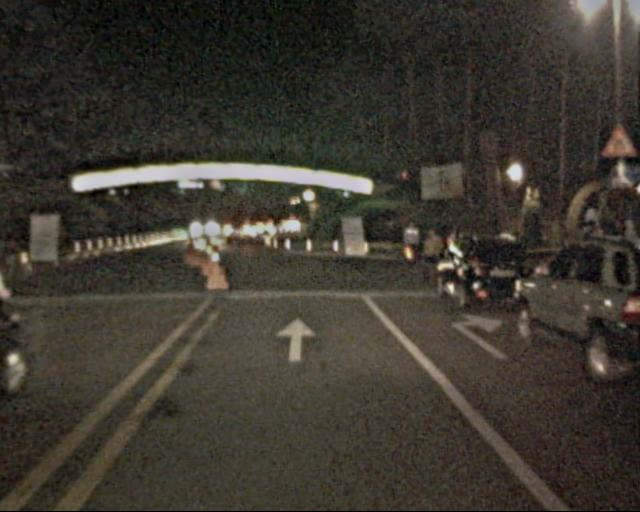person: (421, 229, 444, 286), (401, 220, 421, 268)
